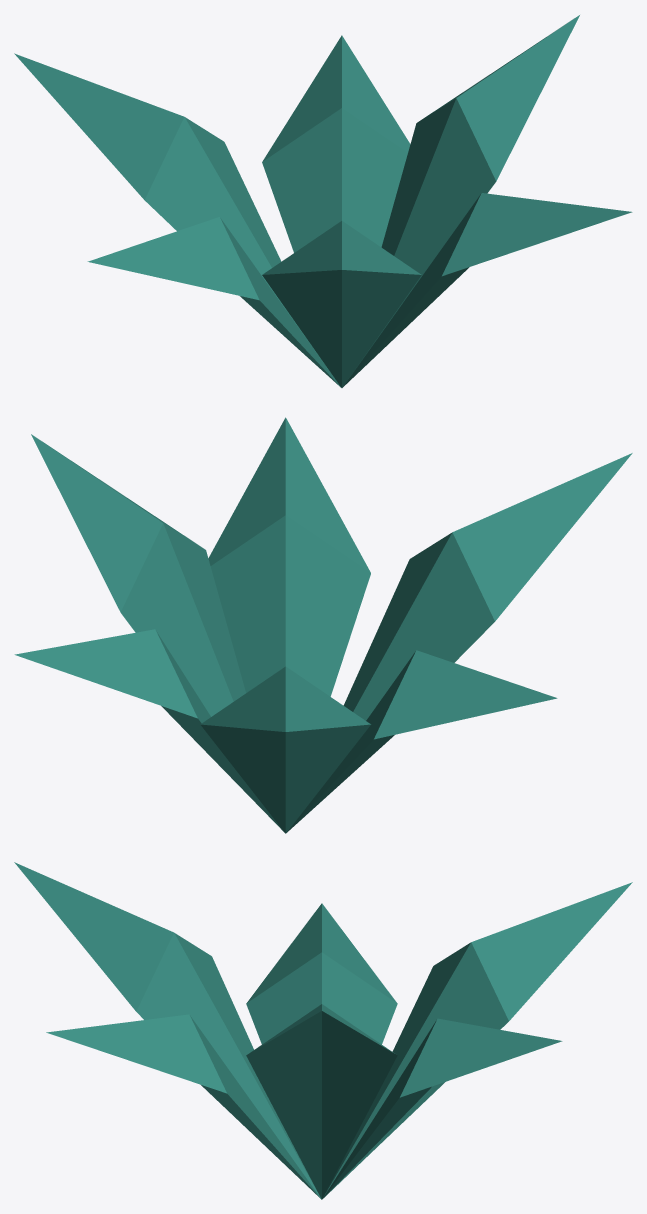
3 renders of one model, top to bottom at view 1: azimuth 30°, elevation 25°; view 2: azimuth 150°, elevation 25°; view 3: azimuth 270°, elevation 25°, orthographic. The views are drawn at different scales.
Parts seen in each view (by area): view 1: 原森林完整植株_3.001; view 2: 原森林完整植株_3.001; view 3: 原森林完整植株_3.001.
Boxes of the visible parts, x1,y1,x2,y2 form: 原森林完整植株_3.001: (14,15,632,387); 原森林完整植株_3.001: (14,417,632,833); 原森林完整植株_3.001: (14,862,632,1199).
Size of the model in its own units: 0.2279 by 0.1395 by 0.2613.
